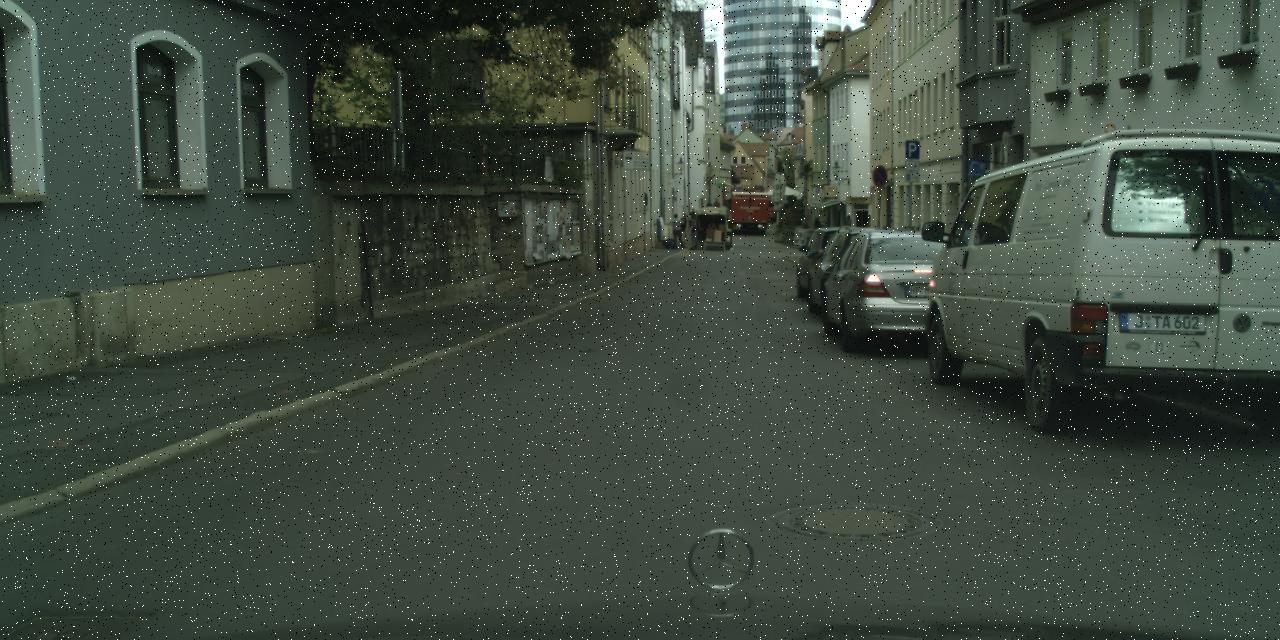ped: (670, 213, 684, 249), (684, 214, 698, 248), (678, 213, 689, 240), (688, 208, 698, 233), (711, 198, 720, 220), (705, 200, 713, 219)
